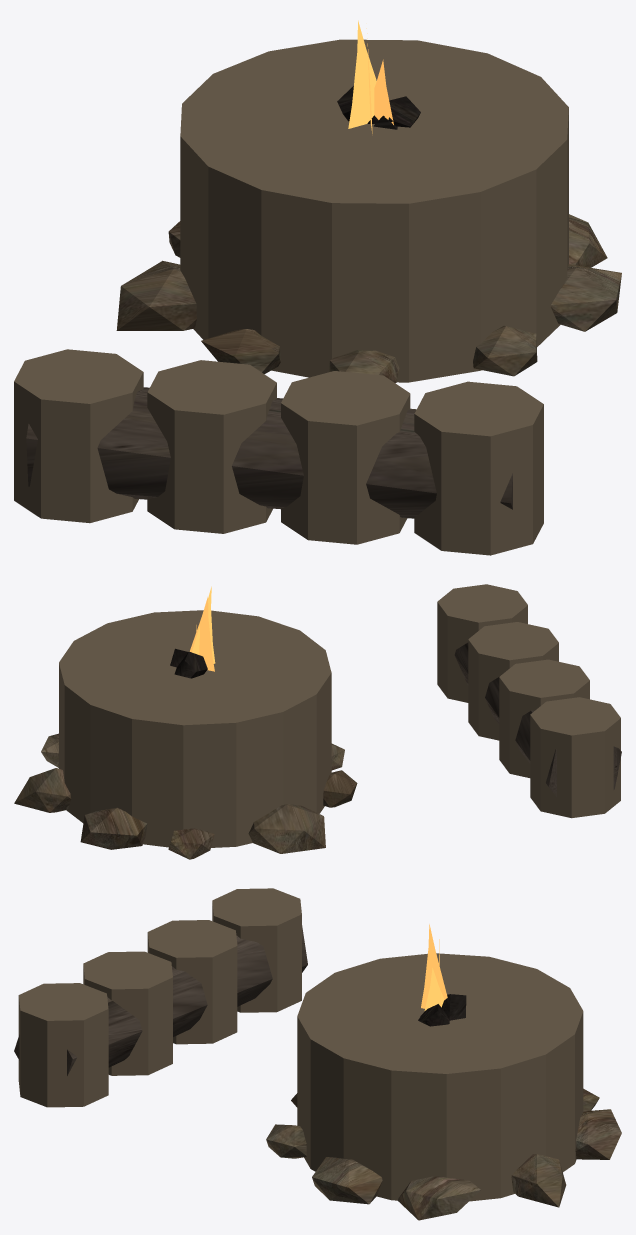
Rendered from prop_campfire_tex.glb.
The picture shows the model from 3 angles, top to bottom: view 1: azimuth 30°, elevation 25°; view 2: azimuth 150°, elevation 25°; view 3: azimuth 270°, elevation 25°; orthographic projection. The views are drawn at different scales.
Visible parts, largest first — view 1: col_fire, col_seat_0_p3, col_seat_0_p0, col_seat_0_p2, col_seat_0_p1, ring_stones, seats, flames, log_stack; view 2: col_fire, ring_stones, col_seat_0_p0, col_seat_0_p3, col_seat_0_p2, col_seat_0_p1, seats, flames, log_stack; view 3: col_fire, ring_stones, col_seat_0_p3, col_seat_0_p2, col_seat_0_p1, col_seat_0_p0, seats, flames, log_stack.
Part boxes in pixels (<box>): col_fire: <box>180,39,568,382</box>; col_seat_0_p3: <box>414,381,543,555</box>; col_seat_0_p0: <box>14,349,143,523</box>; col_seat_0_p2: <box>281,371,410,544</box>; col_seat_0_p1: <box>147,360,276,533</box>; ring_stones: <box>116,214,621,383</box>; seats: <box>26,387,512,518</box>; flames: <box>348,20,393,133</box>; log_stack: <box>337,86,420,129</box>; col_fire: <box>59,610,331,847</box>; ring_stones: <box>14,733,357,859</box>; col_seat_0_p0: <box>530,697,620,818</box>; col_seat_0_p3: <box>437,584,527,702</box>; col_seat_0_p2: <box>468,622,558,740</box>; col_seat_0_p1: <box>499,659,589,777</box>; seats: <box>454,642,621,796</box>; flames: <box>189,586,215,671</box>; log_stack: <box>170,648,207,678</box>; col_fire: <box>297,953,583,1201</box>; ring_stones: <box>266,1088,621,1220</box>; col_seat_0_p3: <box>18,983,108,1107</box>; col_seat_0_p2: <box>83,951,172,1075</box>; col_seat_0_p1: <box>147,920,237,1044</box>; col_seat_0_p0: <box>212,888,301,1012</box>; seats: <box>14,925,307,1075</box>; flames: <box>421,924,447,1010</box>; log_stack: <box>418,994,466,1026</box>.
Bounding box in the file's own units: 2.46 × 1.04 × 2.55.
Materials: 6 (4 with a texture image).
